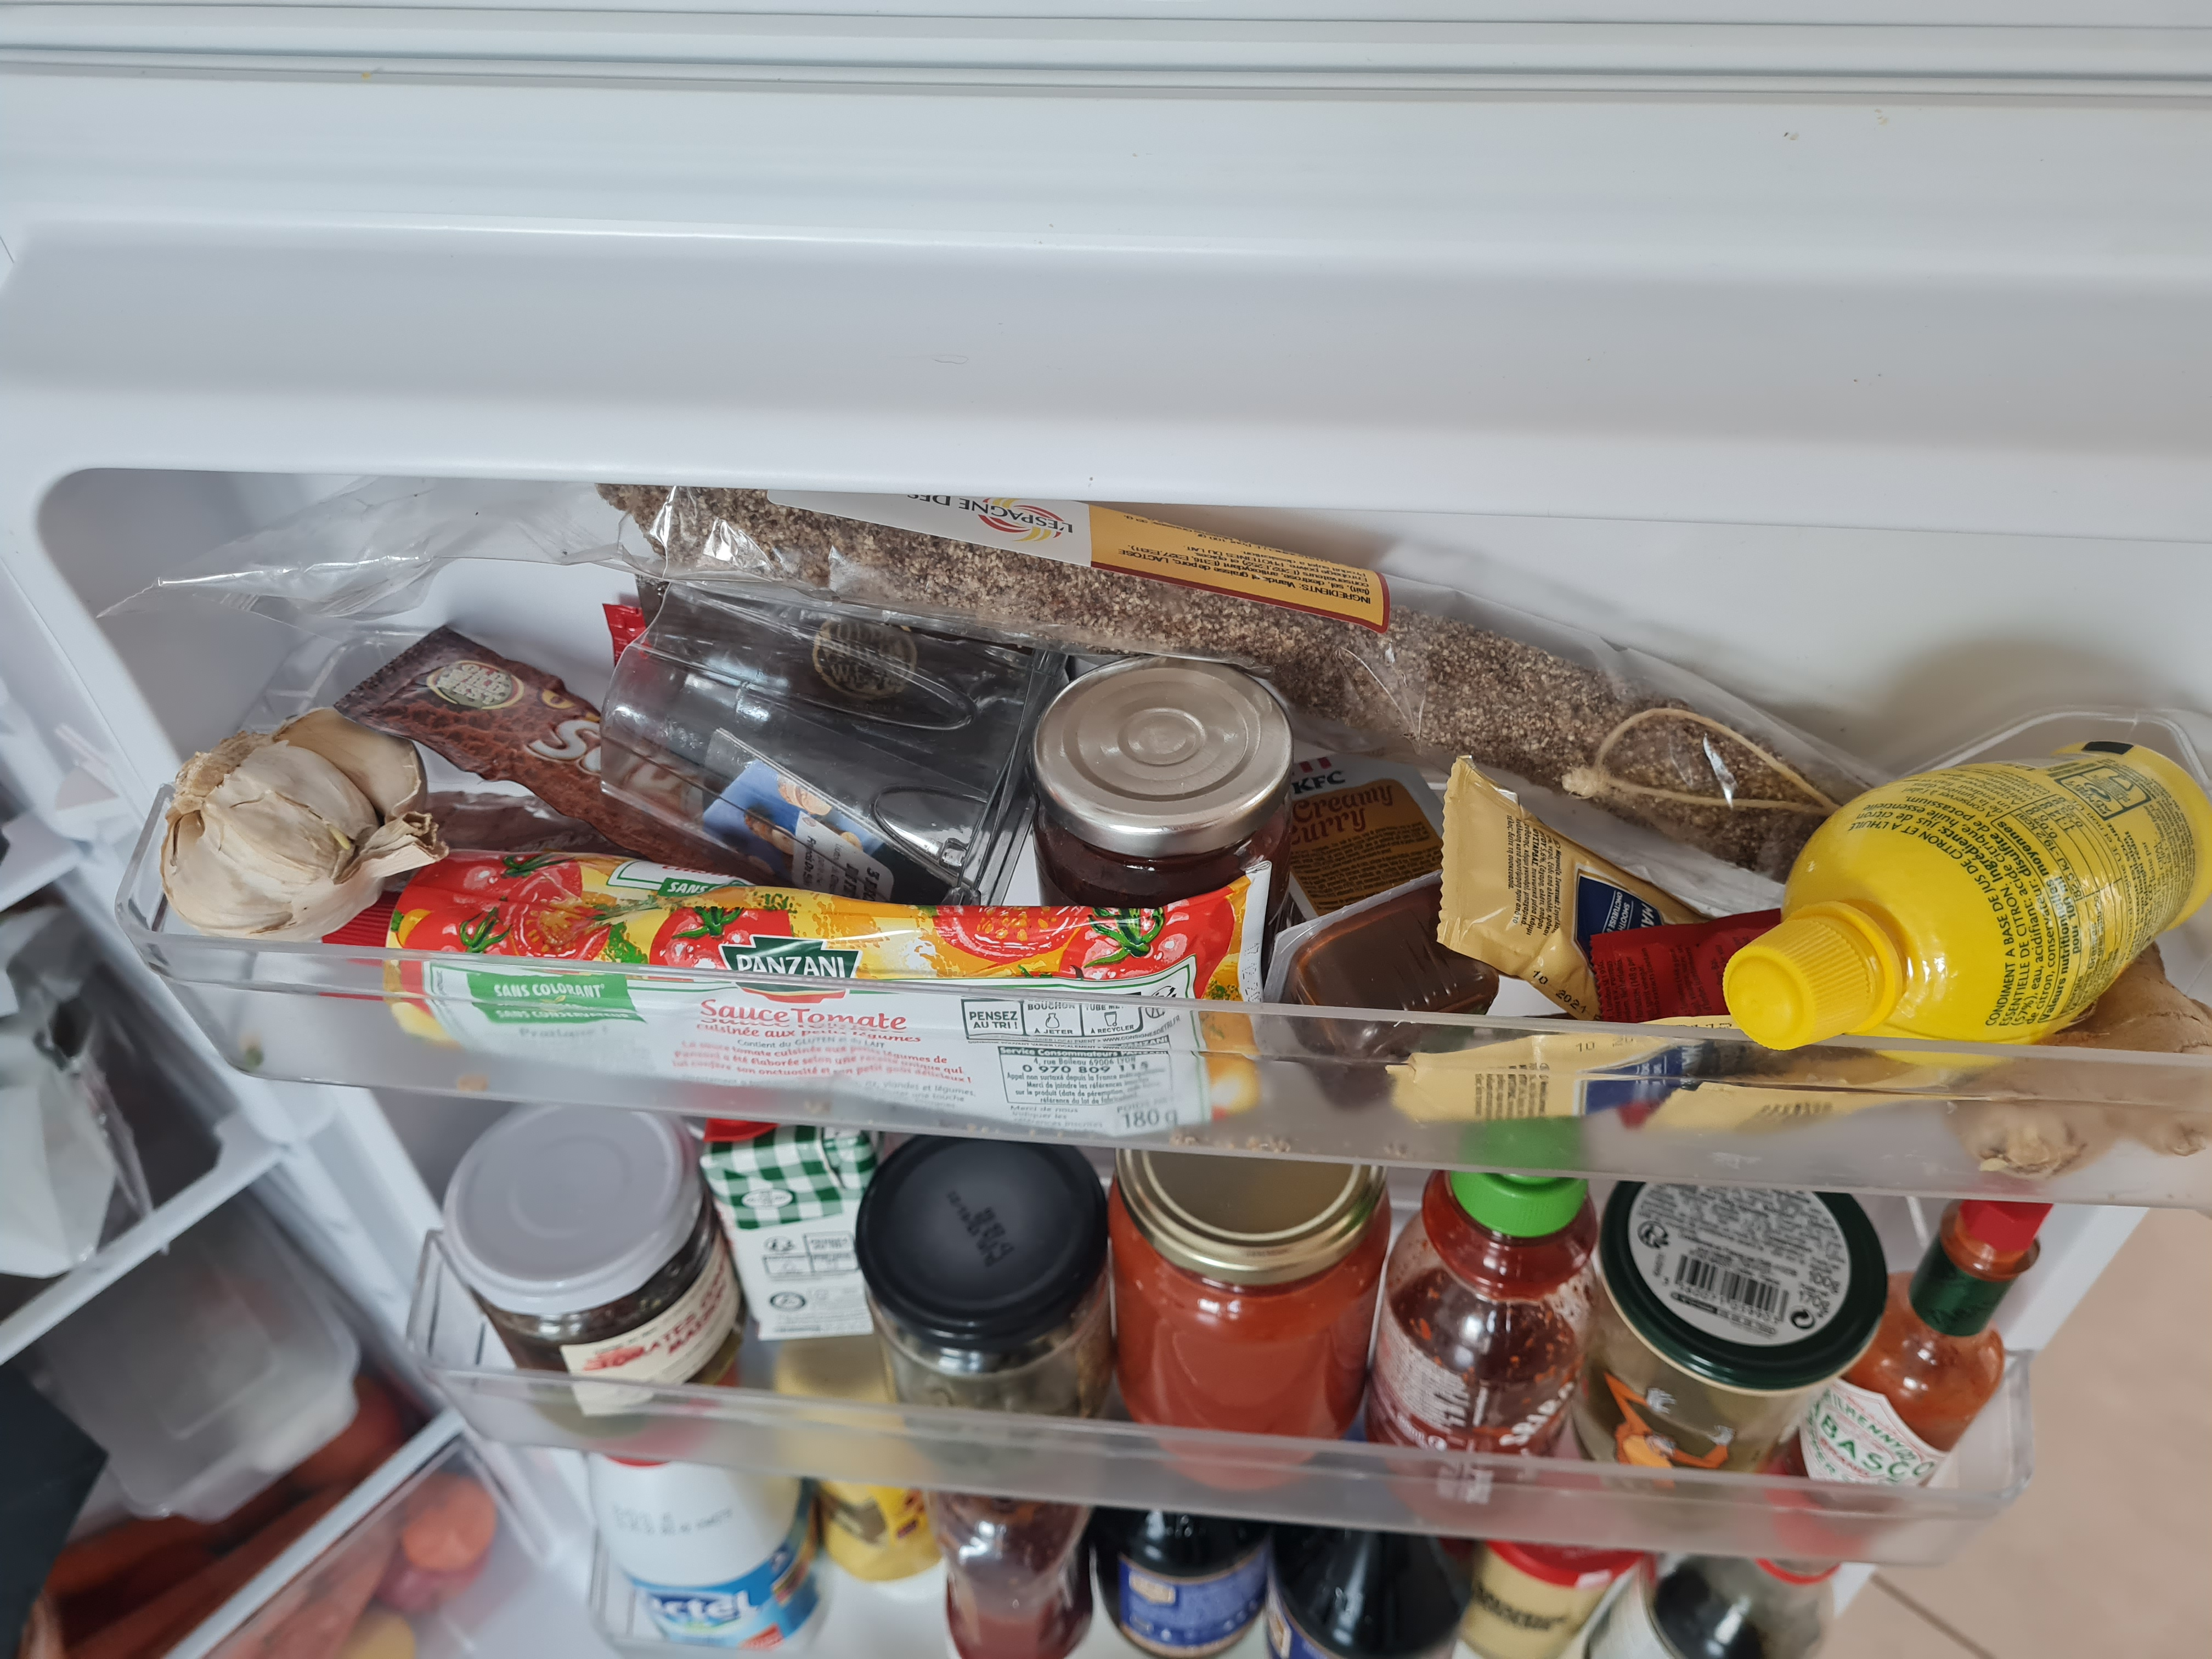beer: (1275, 1520, 1467, 1659), (1099, 1509, 1268, 1659)
cream: (700, 1112, 888, 1344)
milk: (594, 1446, 829, 1649)
